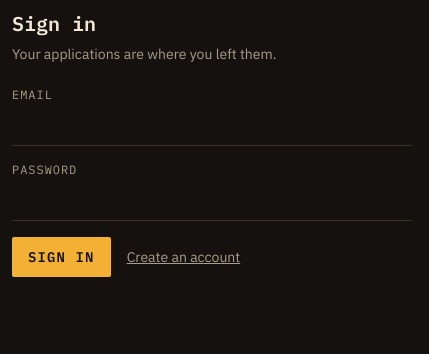
Scenario: SignInForm › shows the failure and stays on the form
Type "ada@example.com" into the field labelled "Email". click: (212, 126)
box: [12,106,412,146]
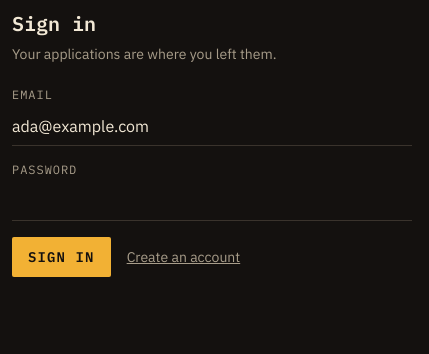
Type "wrong-password-1" into the password field labelled "Password". click: (212, 201)
box: [12,181,412,221]
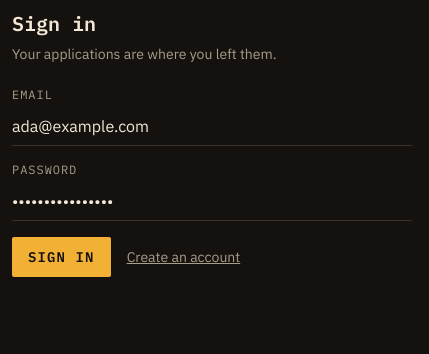
Click the button "Sign in". click: (61, 257)
box: [12,237,111,277]
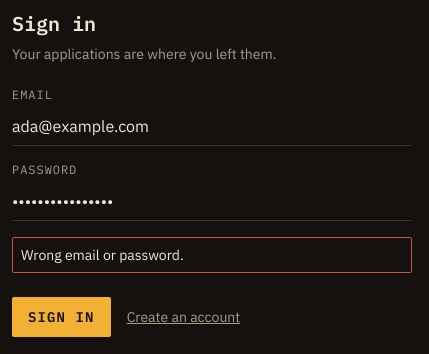
Expected: the message reads "Wrong email or password.", [21,246,184,264]
